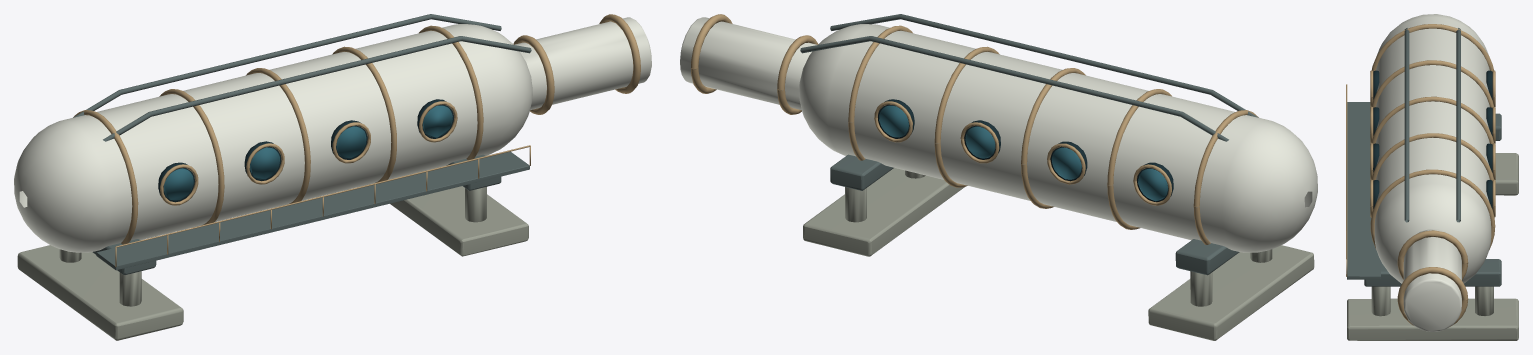
File: habitat-low.glb
The picture shows the model from 3 angles, left to right: view 1: azimuth 30°, elevation 25°; view 2: azimuth 150°, elevation 25°; view 3: azimuth 270°, elevation 25°; orthographic projection. The views are drawn at different scales.
Parts seen in each view (by area): view 1: habitat / Warm enamel, habitat / Deck grating, habitat / Marine concrete, habitat / Anodised bronze, habitat / Observation glazing, habitat / Recessed joints; view 2: habitat / Warm enamel, habitat / Marine concrete, habitat / Anodised bronze, habitat / Deck grating, habitat / Observation glazing, habitat / Recessed joints; view 3: habitat / Warm enamel, habitat / Deck grating, habitat / Anodised bronze, habitat / Marine concrete, habitat / Recessed joints.
Part boxes in pixels (left/top/right/bottom): habitat / Warm enamel: left=14, top=17, right=651, bottom=252; habitat / Deck grating: left=73, top=14, right=531, bottom=274; habitat / Marine concrete: left=17, top=186, right=528, bottom=340; habitat / Anodised bronze: left=73, top=14, right=640, bottom=266; habitat / Observation glazing: left=163, top=105, right=452, bottom=200; habitat / Recessed joints: left=158, top=99, right=453, bottom=202; habitat / Warm enamel: left=680, top=17, right=1317, bottom=252; habitat / Marine concrete: left=803, top=168, right=1314, bottom=340; habitat / Anodised bronze: left=691, top=14, right=1258, bottom=244; habitat / Deck grating: left=800, top=14, right=1258, bottom=275; habitat / Observation glazing: left=879, top=105, right=1168, bottom=201; habitat / Recessed joints: left=878, top=99, right=1173, bottom=202; habitat / Warm enamel: left=1374, top=14, right=1491, bottom=331; habitat / Deck grating: left=1347, top=28, right=1501, bottom=286; habitat / Anodised bronze: left=1346, top=24, right=1495, bottom=326; habitat / Marine concrete: left=1347, top=153, right=1518, bottom=340; habitat / Recessed joints: left=1373, top=70, right=1492, bottom=209.
Bounding box in the file's own units: 35.47 × 10.43 × 10.03.
